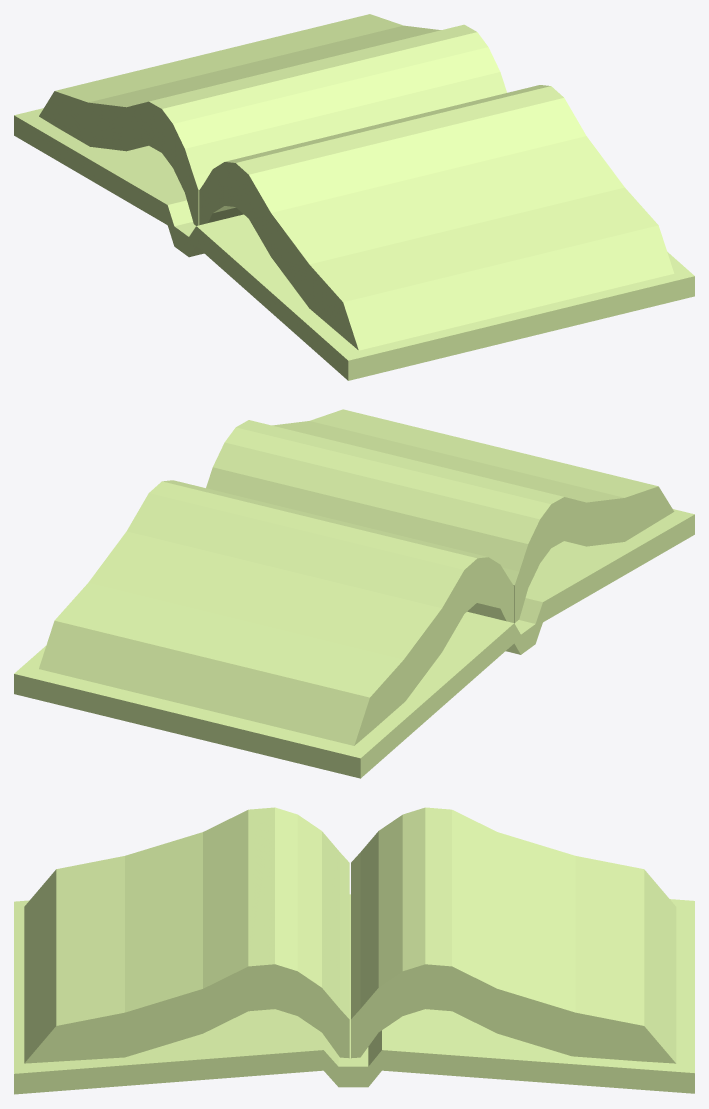
Rendered from book.obj.
3 renders of one model, top to bottom at view 1: azimuth 30°, elevation 25°; view 2: azimuth 150°, elevation 25°; view 3: azimuth 270°, elevation 25°, orthographic.
Parts seen in each view (by area): view 1: petri_dish:name3; view 2: petri_dish:name3; view 3: petri_dish:name3.
Part boxes in pixels (x1,y1,x2,y2): petri_dish:name3: (14,14,694,380); petri_dish:name3: (14,409,694,778); petri_dish:name3: (14,807,694,1094).
Bounding box in the file's own units: 0.7898 × 0.2619 × 1.32.
1 material, 1 textured.
